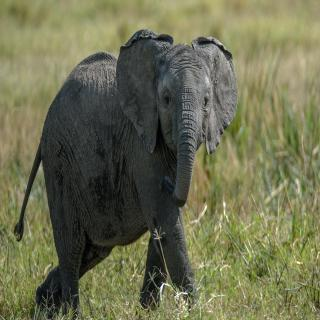Elephant: (14, 26, 241, 316)
